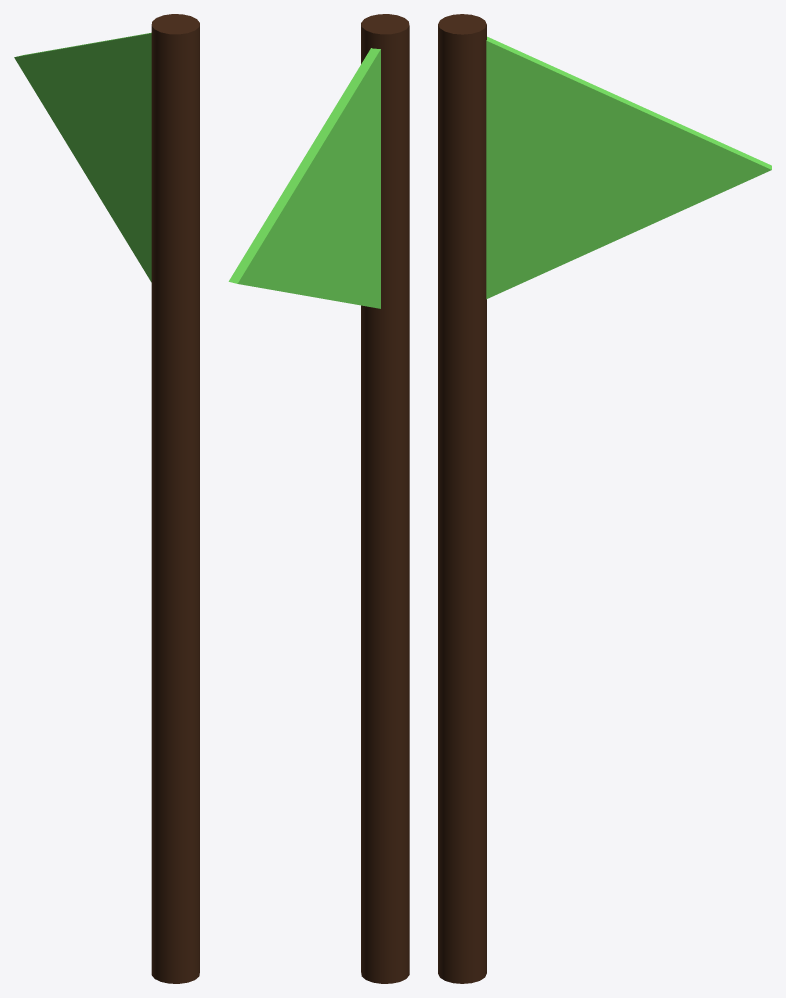
The model's file is flag.fbx.
3 renders of one model, left to right at view 1: azimuth 30°, elevation 25°; view 2: azimuth 150°, elevation 25°; view 3: azimuth 270°, elevation 25°, orthographic.
Visible parts, largest first — view 1: Cylinder; view 2: Cylinder; view 3: Cylinder.
Boxes of the visible parts, <box> form: Cylinder: <box>14,14,199,983</box>; Cylinder: <box>228,14,409,983</box>; Cylinder: <box>438,14,771,983</box>.
Size of the model in its own units: 21.86 by 469 by 150.
